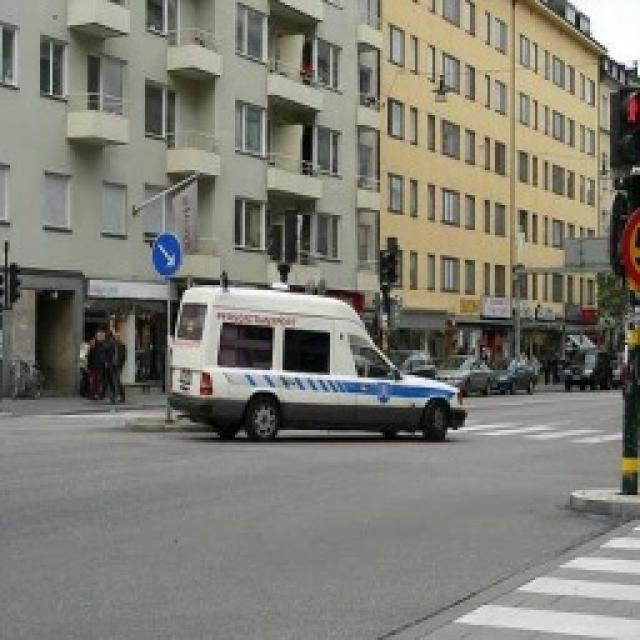ambulance: (162, 285, 468, 440)
